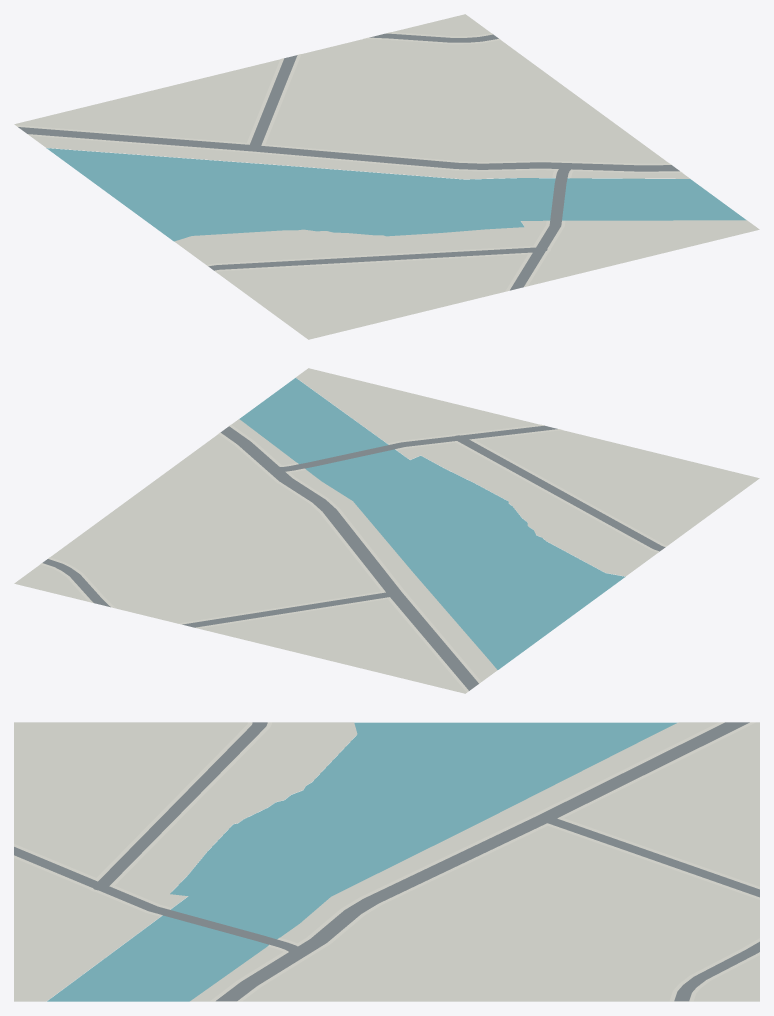
3 views of the same model, one above another, from view 1: azimuth 30°, elevation 25°; view 2: azimuth 150°, elevation 25°; view 3: azimuth 270°, elevation 25° (orthographic). The views are drawn at different scales.
Parts seen in each view (by area): view 1: city; view 2: city; view 3: city.
Part boxes in pixels (x1,y1,x2,y2): city: (14, 14, 759, 339); city: (14, 368, 759, 693); city: (14, 722, 759, 1001).
Size of the model in its own units: 443 by 0.4 by 500.
